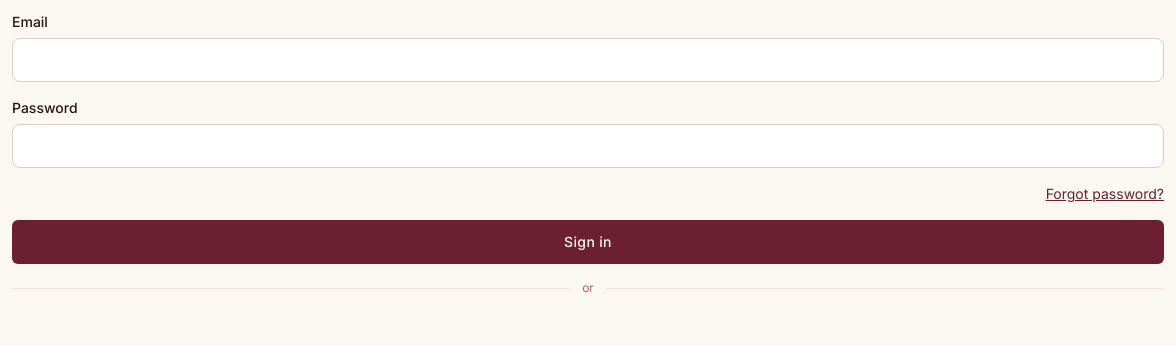
LoginForm › shows the backend's error message for invalid credentials
Type "priya@example.com" into the field labelled "Email". click: [588, 60]
box: [12, 38, 1164, 82]
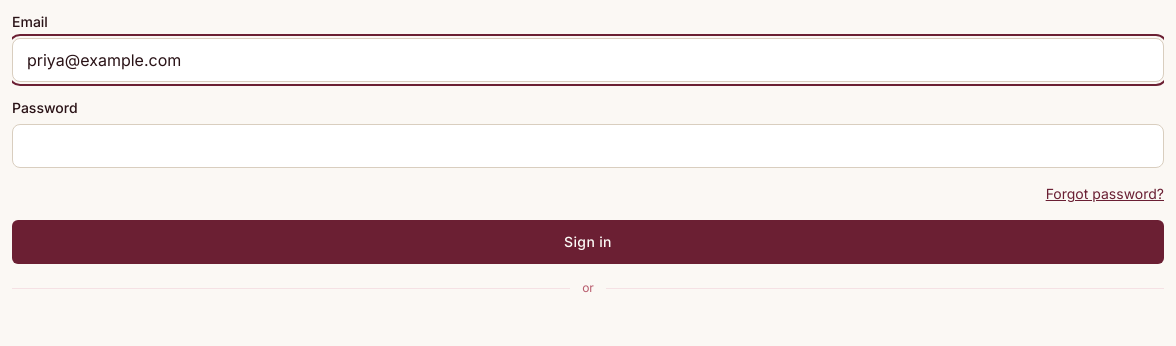
Type "wrong-password" into the password field labelled "Password". click: [588, 146]
box: [12, 124, 1164, 168]
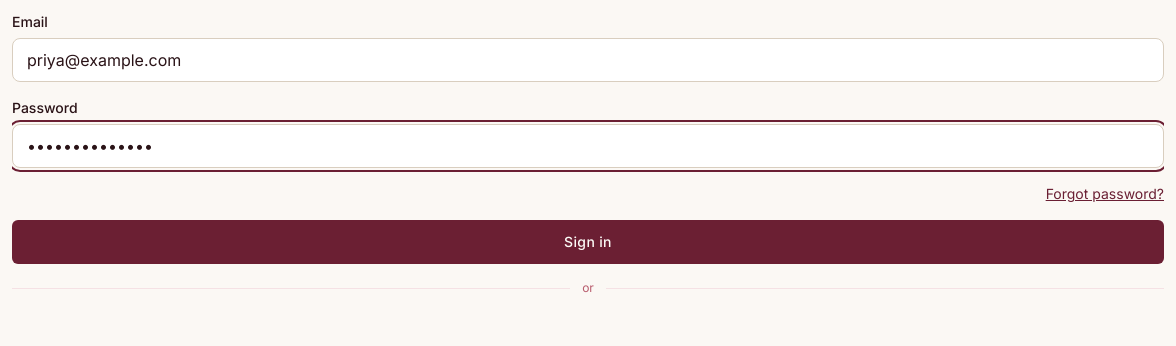
Click the button "Sign in". click: [588, 242]
box: [12, 220, 1164, 264]
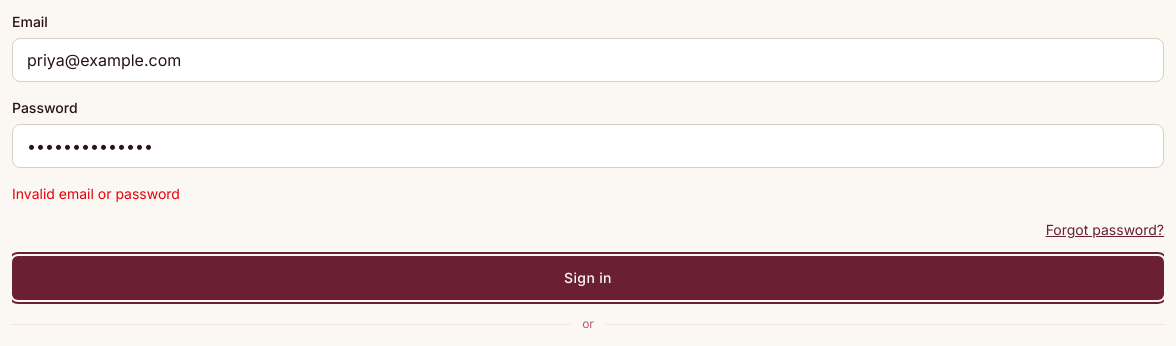
Expected: the text "Invalid email or password" is shown, [12, 185, 180, 202]
